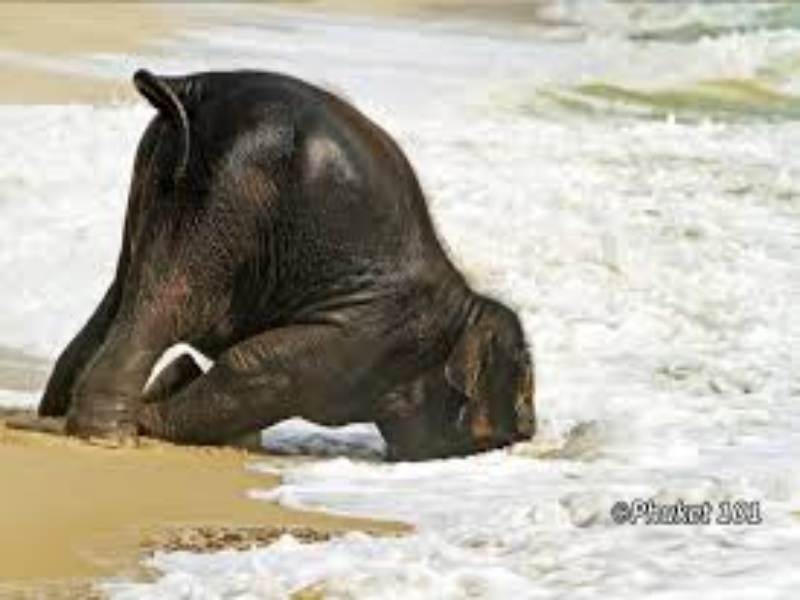elephant: (46, 67, 542, 463)
